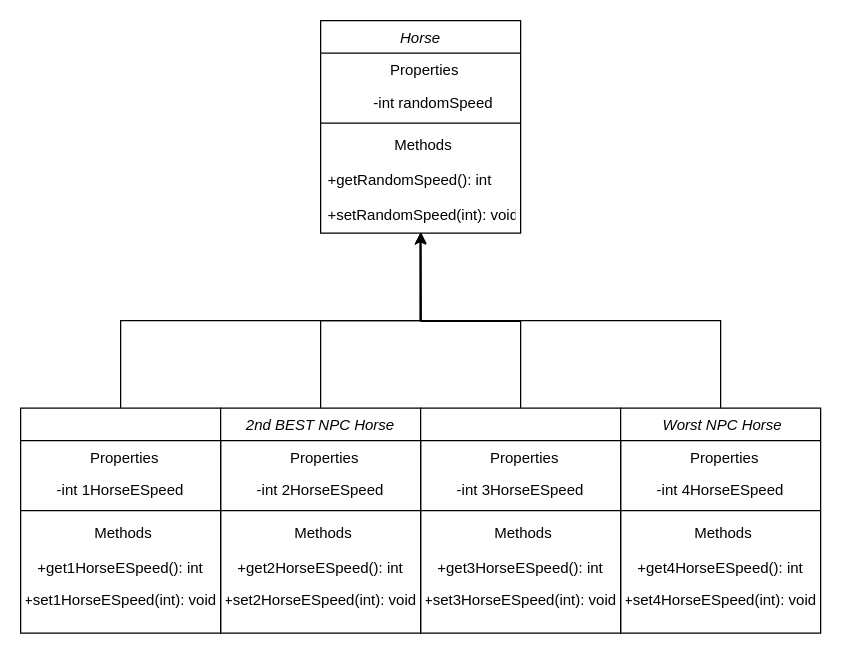
This 841x654 diagram has some shape labels left out. Each missing label, with the box of its shape:
3rd BEST NPC Horse: (419, 407, 621, 633)
BEST NPC Horse: (19, 407, 221, 633)
